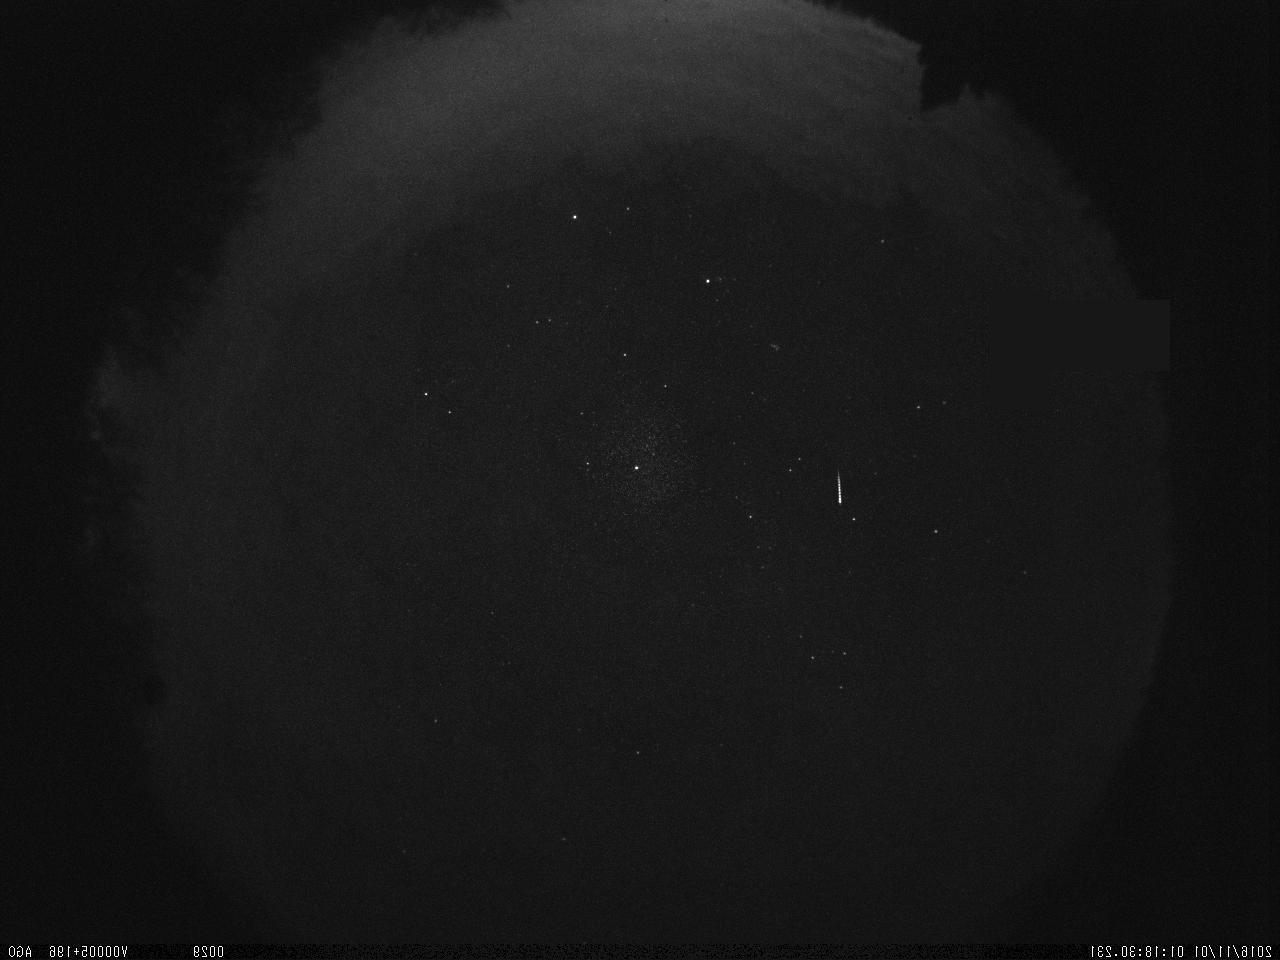meteor: (821, 460, 852, 507)
